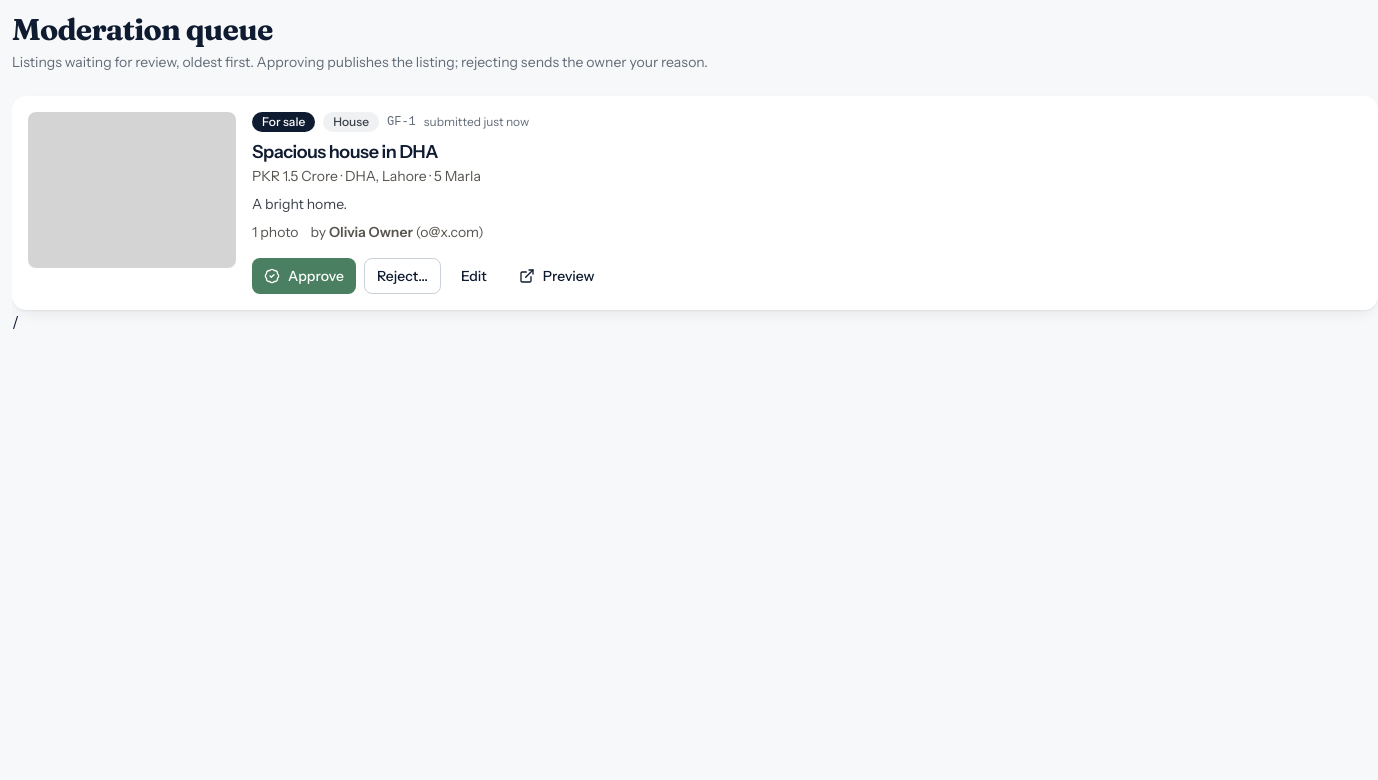
moderation queue › approves in one click
Click the button "Approve" at (304, 276), box [252, 258, 356, 294]
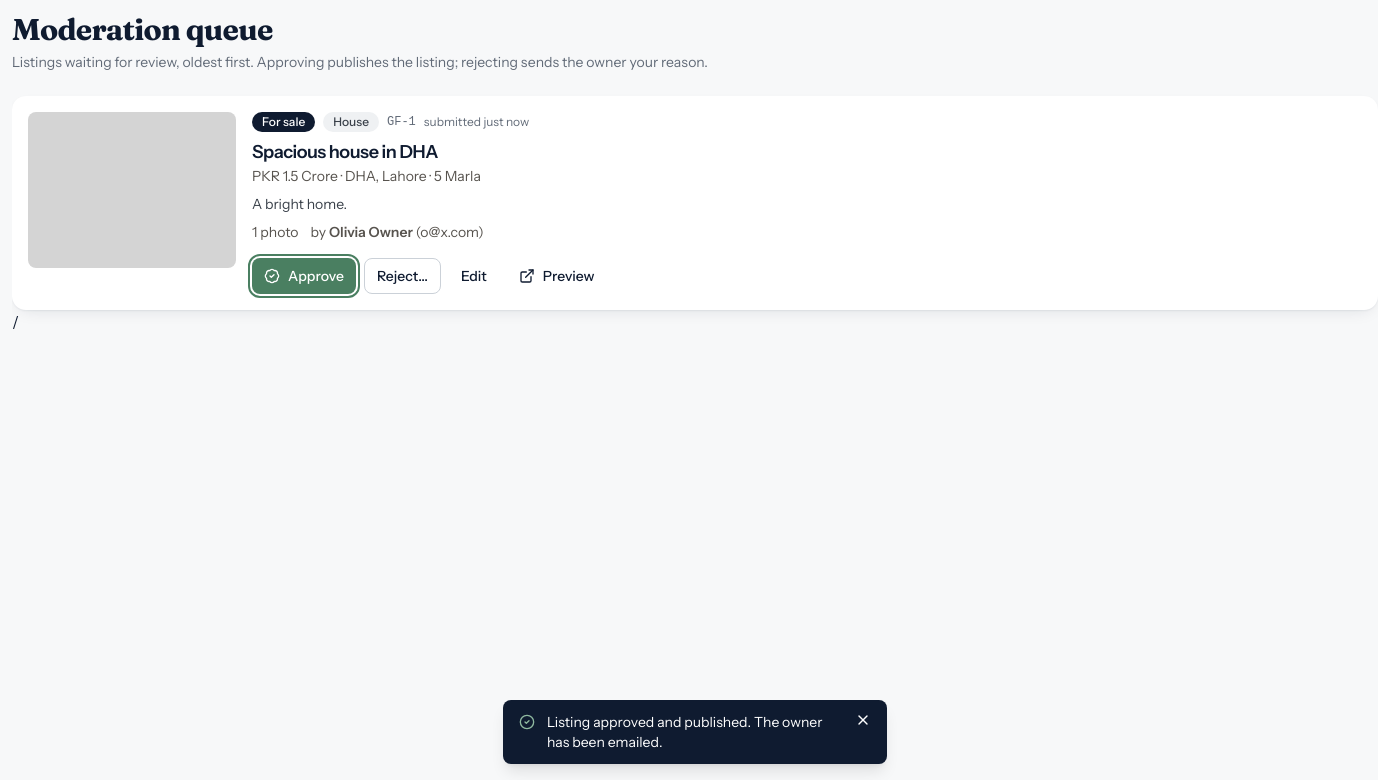
Expected: the text "Listing approved and published. The owner has been emailed." is shown, [547, 712, 843, 752]
